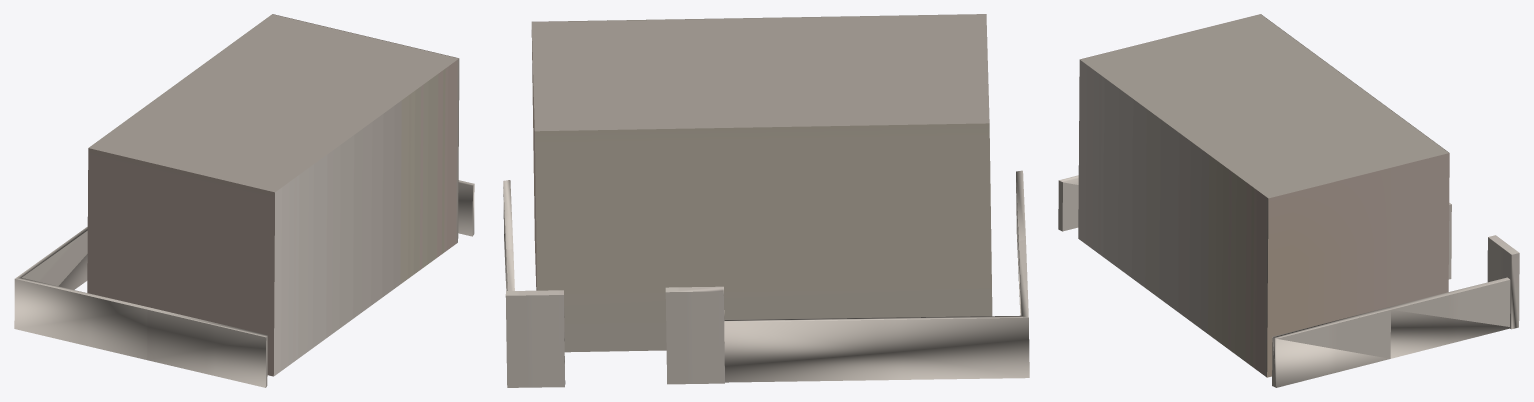
File: Home_4.fbx
3 renders of one model, left to right at view 1: azimuth 30°, elevation 25°; view 2: azimuth 150°, elevation 25°; view 3: azimuth 270°, elevation 25°, orthographic. The views are drawn at different scales.
Parts seen in each view (by area): view 1: Home_4; view 2: Home_4; view 3: Home_4.
Part boxes in pixels (x1,y1,x2,y2): Home_4: [14, 14, 474, 387]; Home_4: [503, 14, 1029, 387]; Home_4: [1058, 14, 1519, 387].
Size of the model in its own units: 18.13 by 7.28 by 16.45.
